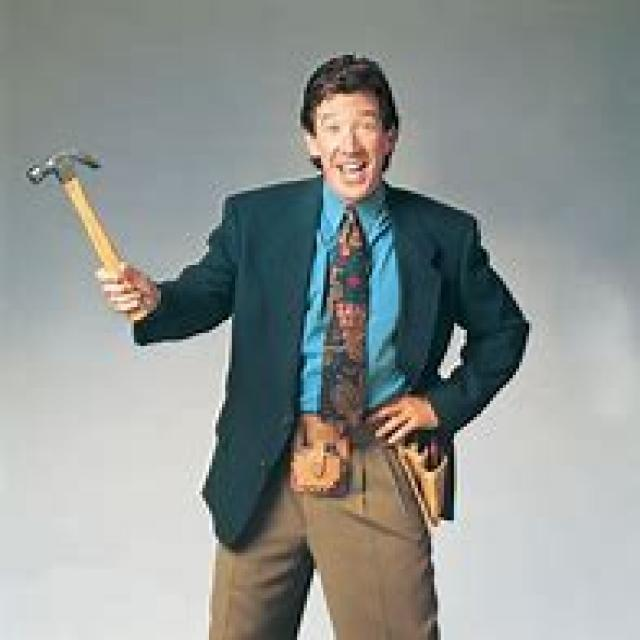hammer: (23, 143, 157, 330)
